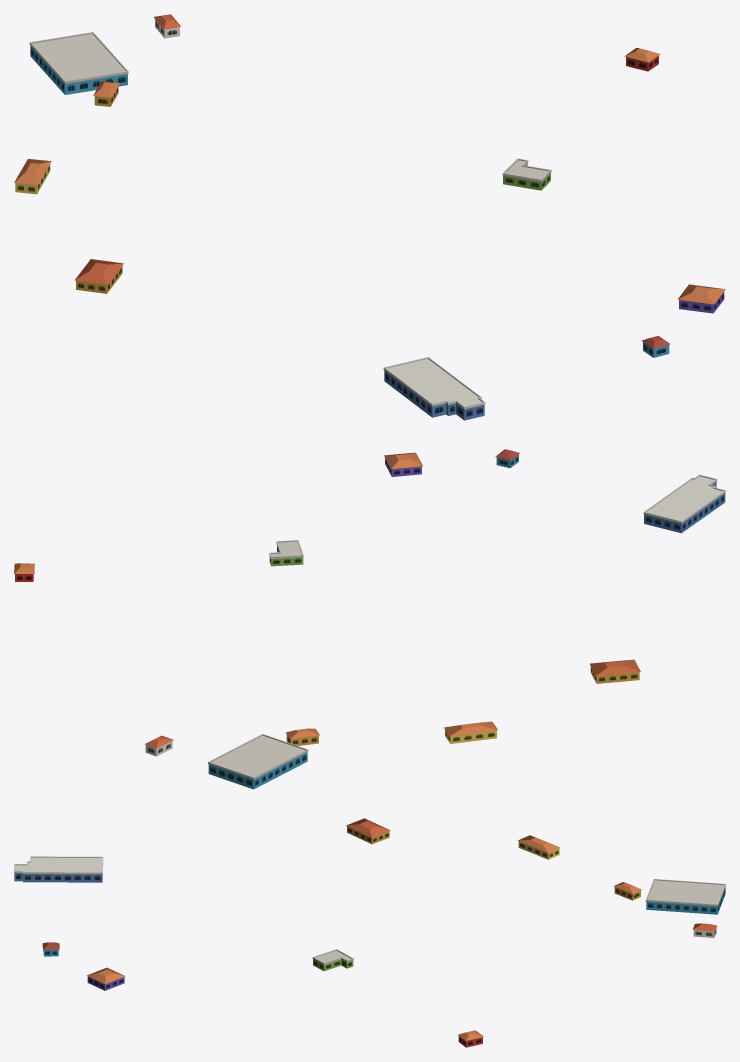
File: msb_oranjestad_m15_1.glb
3 views of the same model, one above another, from view 1: azimuth 30°, elevation 25°; view 2: azimuth 150°, elevation 25°; view 3: azimuth 270°, elevation 25° (orthographic). The views are drawn at different scales.
Parts seen in each view (by area): view 1: msb_oranjestad_m15_1_lod0; view 2: msb_oranjestad_m15_1_lod0; view 3: msb_oranjestad_m15_1_lod0.
Boxes of the visible parts, bbox=[...] form: msb_oranjestad_m15_1_lod0: bbox=[14, 14, 725, 420]; msb_oranjestad_m15_1_lod0: bbox=[14, 449, 725, 789]; msb_oranjestad_m15_1_lod0: bbox=[14, 818, 725, 1047].
Size of what is drawn, in the model's own units: 246 by 11.1 by 316.
3 materials, 1 textured.
